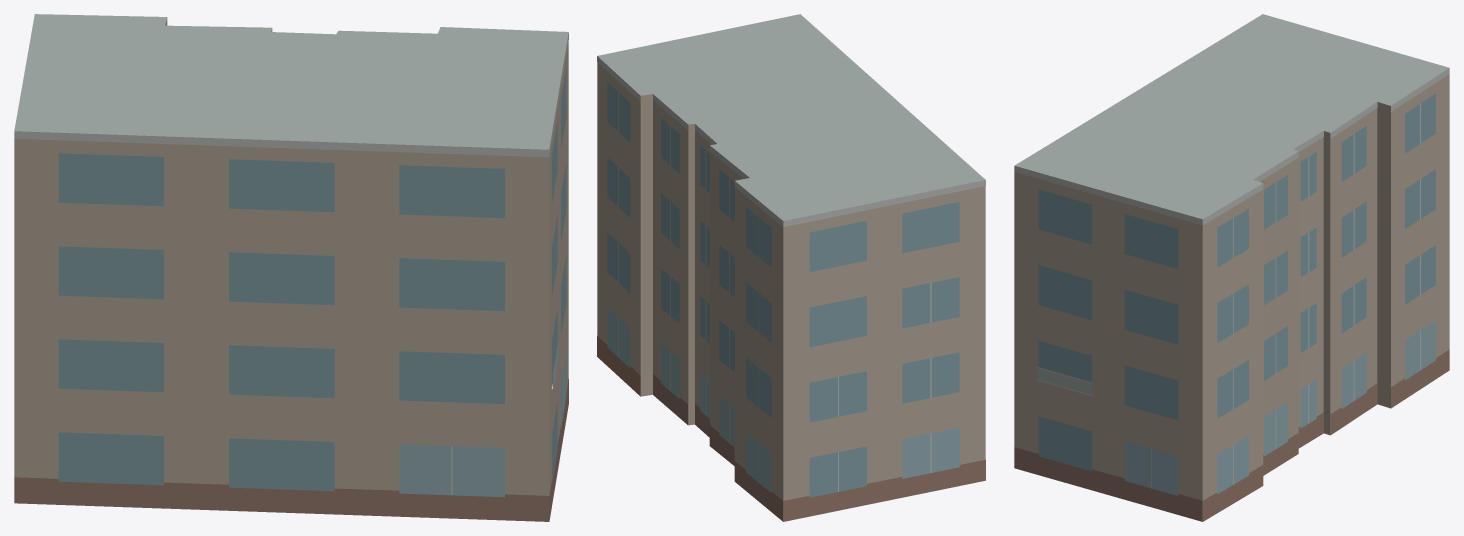
File: survey-upis-32999902.glb
The picture shows the model from 3 angles, left to right: view 1: azimuth 30°, elevation 25°; view 2: azimuth 150°, elevation 25°; view 3: azimuth 270°, elevation 25°; orthographic projection. The views are drawn at different scales.
Parts seen in each view (by area): view 1: survey-upis-32999902.tmp; view 2: survey-upis-32999902.tmp; view 3: survey-upis-32999902.tmp.
Boxes of the visible parts, x1,y1,x2,y2 form: survey-upis-32999902.tmp: (14,14,568,521); survey-upis-32999902.tmp: (597,14,985,521); survey-upis-32999902.tmp: (1014,14,1449,521).
Bounding box in the file's own units: 17.48 × 12 × 15.66.
